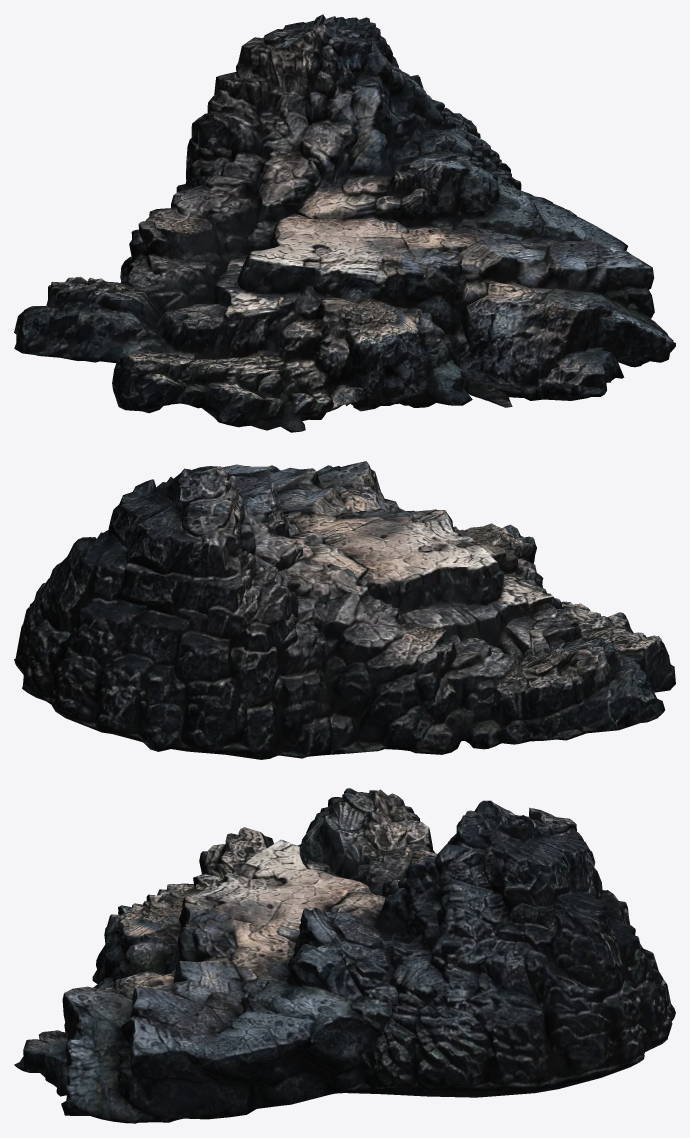
The model's file is perch-rock.mobile.glb.
The picture shows the model from 3 angles, top to bottom: view 1: azimuth 30°, elevation 25°; view 2: azimuth 150°, elevation 25°; view 3: azimuth 270°, elevation 25°; orthographic projection. The views are drawn at different scales.
Parts seen in each view (by area): view 1: perch-rock; view 2: perch-rock; view 3: perch-rock.
Part boxes in pixels (x1,y1,x2,y2): perch-rock: (14, 14, 675, 432); perch-rock: (14, 461, 675, 759); perch-rock: (14, 788, 675, 1123).
Size of the model in its own units: 0.9632 by 0.4033 by 0.966.
Materials: 1 (1 with a texture image).
